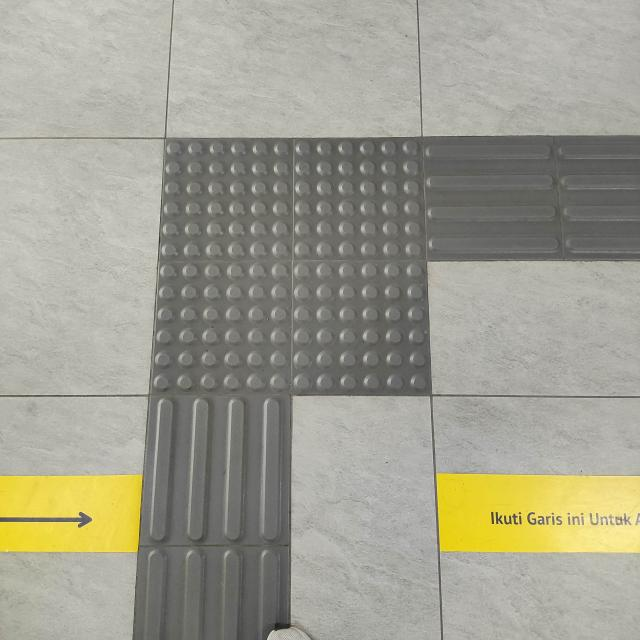kanan: (117, 83, 604, 438)
